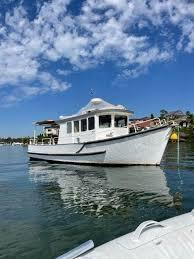Ship: (29, 99, 172, 166)
